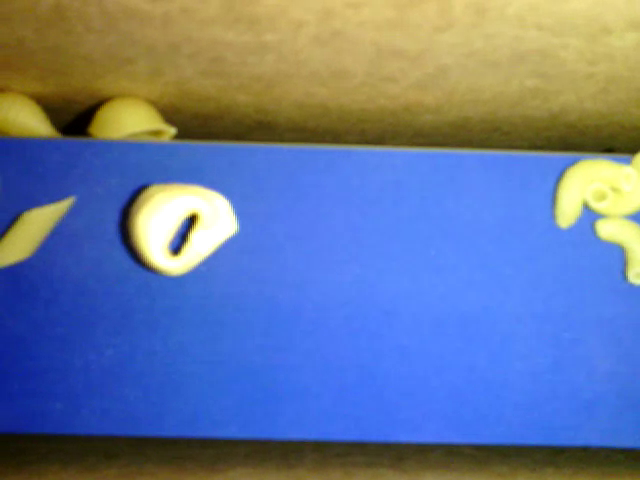elbow: (553, 157, 637, 232), (579, 146, 639, 213), (591, 217, 639, 285)
penne: (1, 196, 78, 271)
shell: (85, 94, 178, 141), (1, 91, 71, 141)
tortellini: (123, 182, 241, 276)
